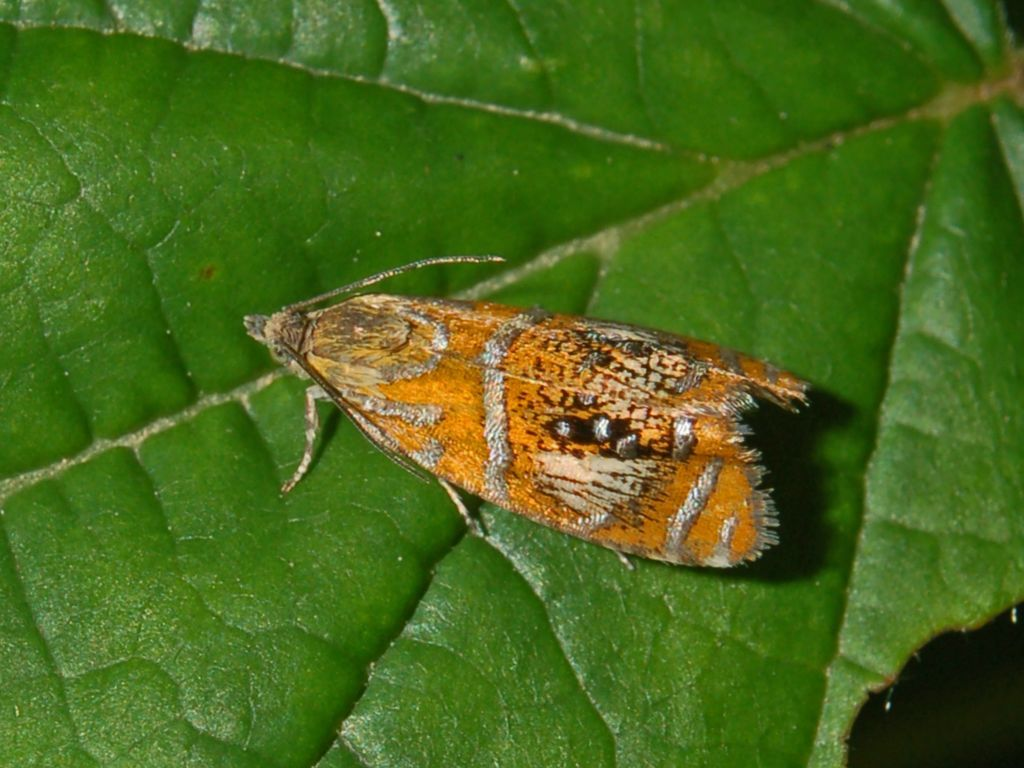Butterfly: (212, 247, 835, 585)
